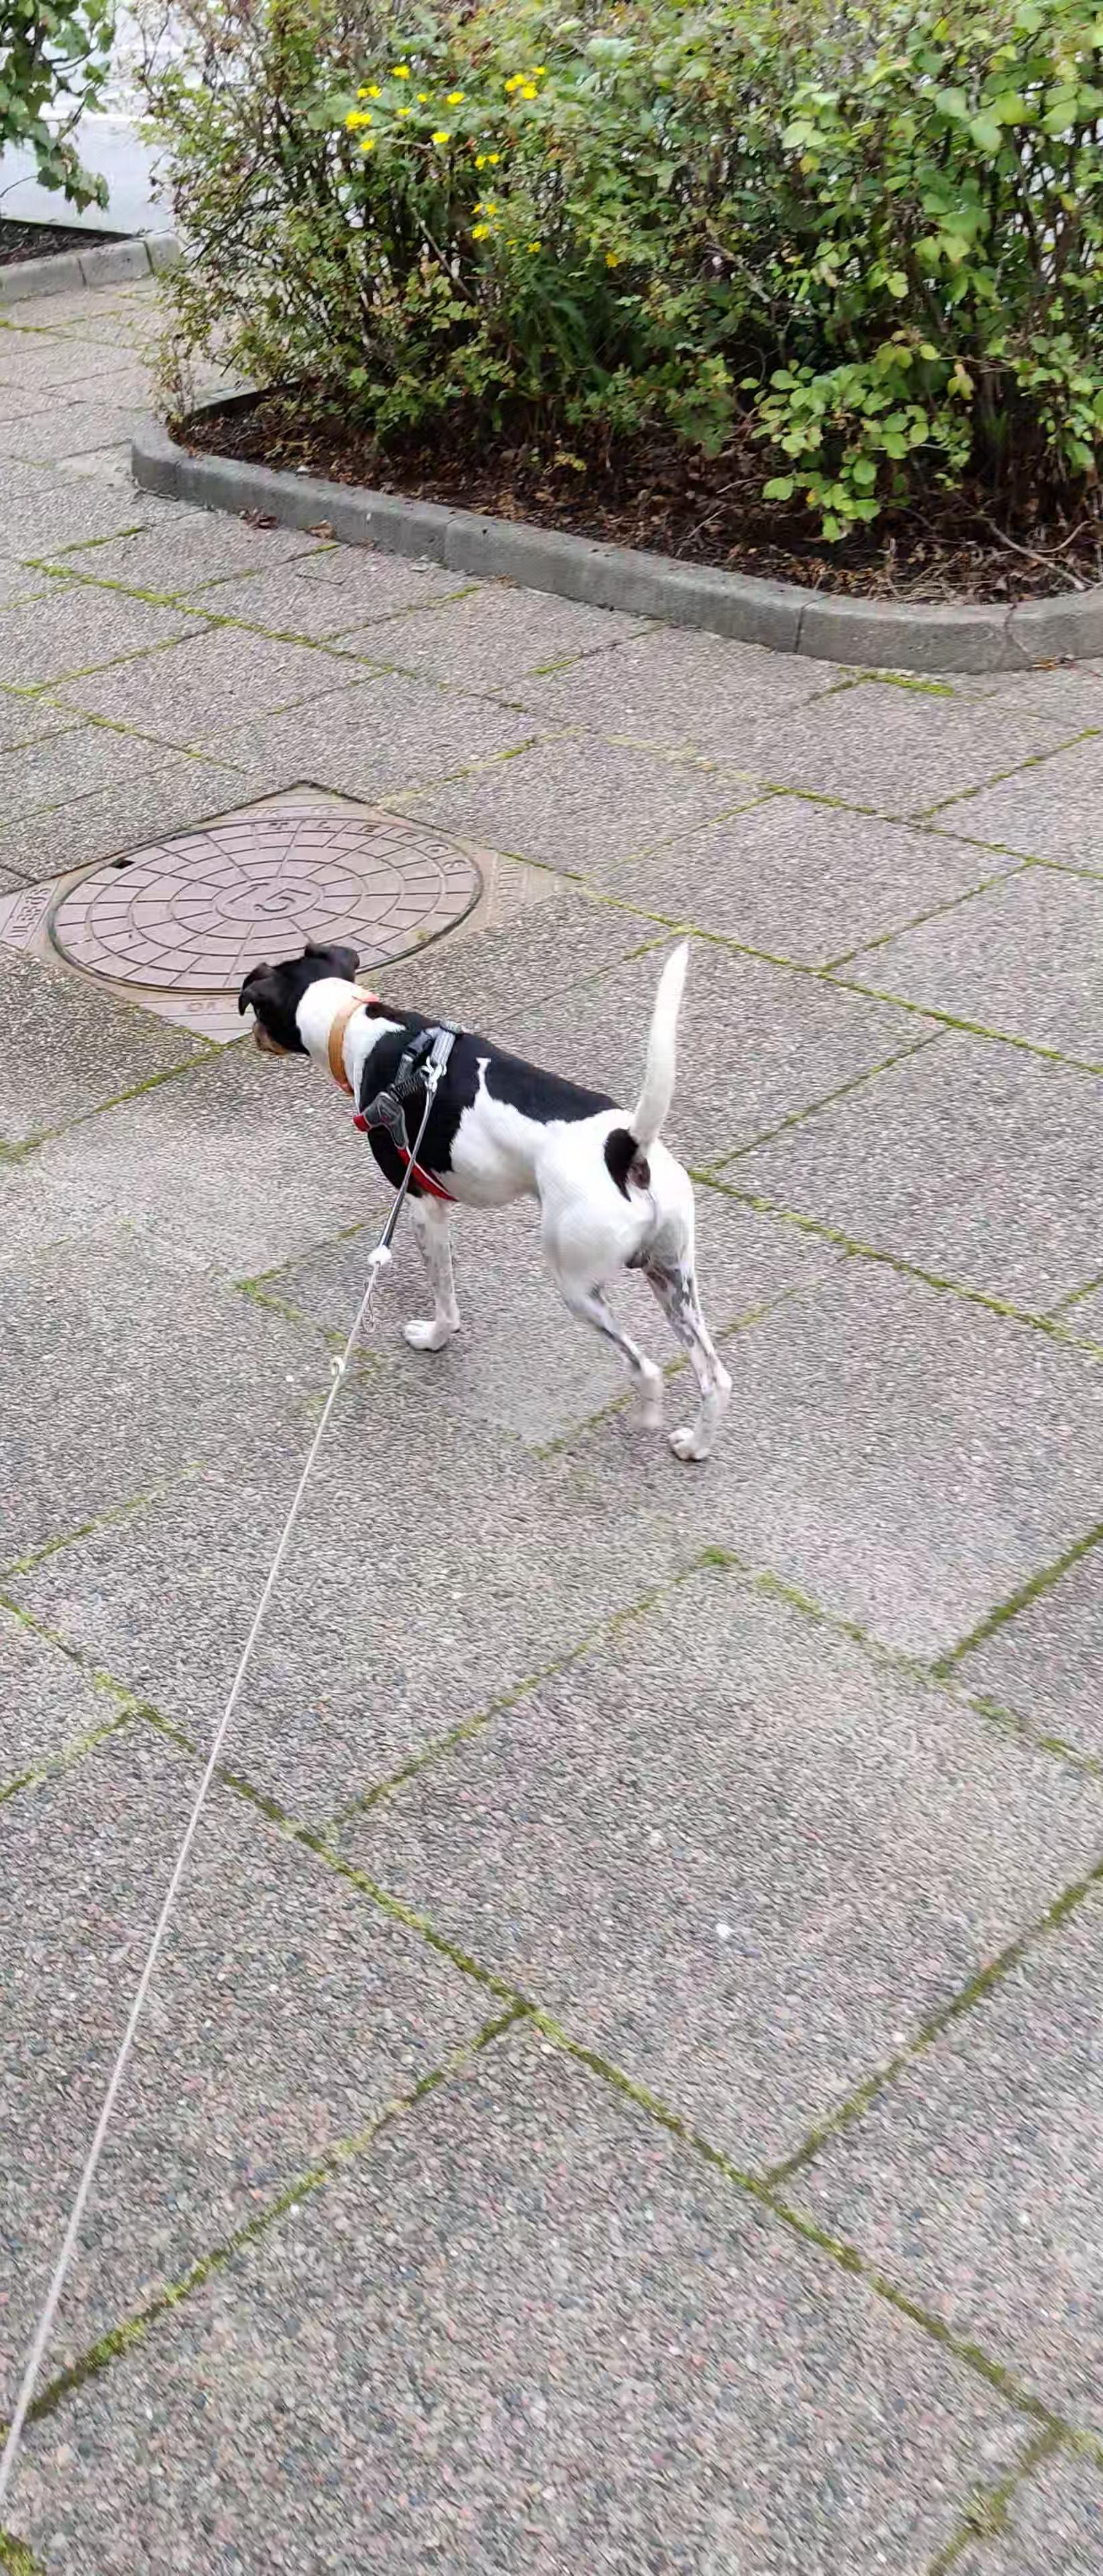Dog: (210, 889, 753, 1495)
